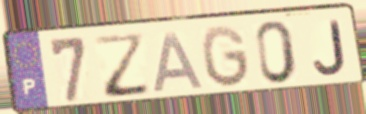0: (254, 19, 299, 86)
7: (47, 36, 90, 105)
A: (150, 29, 207, 94)
G: (199, 23, 253, 90)
J: (312, 18, 349, 77)
Z: (92, 30, 154, 100)
